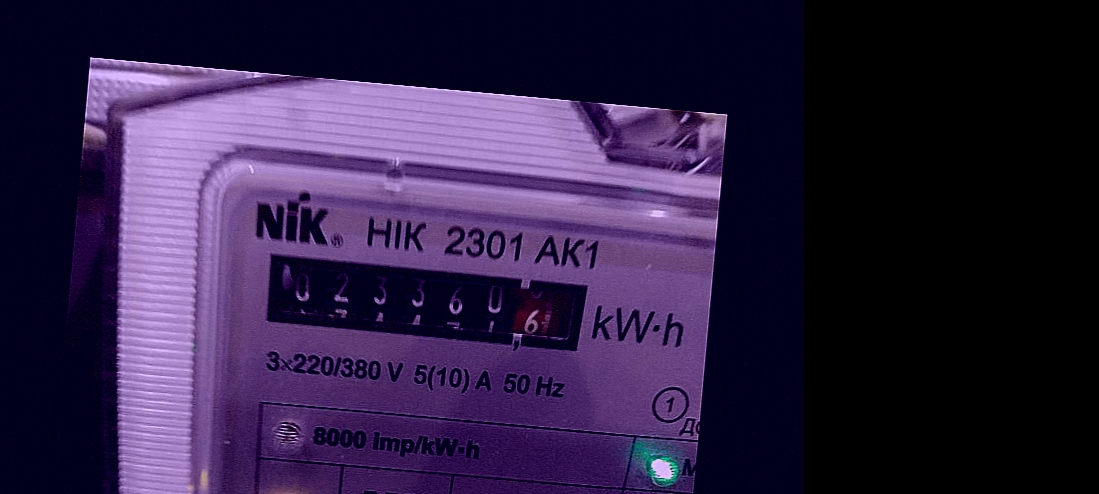0: (482, 279, 507, 316), (289, 266, 314, 302)
2: (329, 267, 353, 304)
3: (368, 271, 391, 307), (407, 273, 428, 309)
6: (444, 279, 467, 315), (520, 301, 541, 336)
screen: (249, 239, 607, 369)
